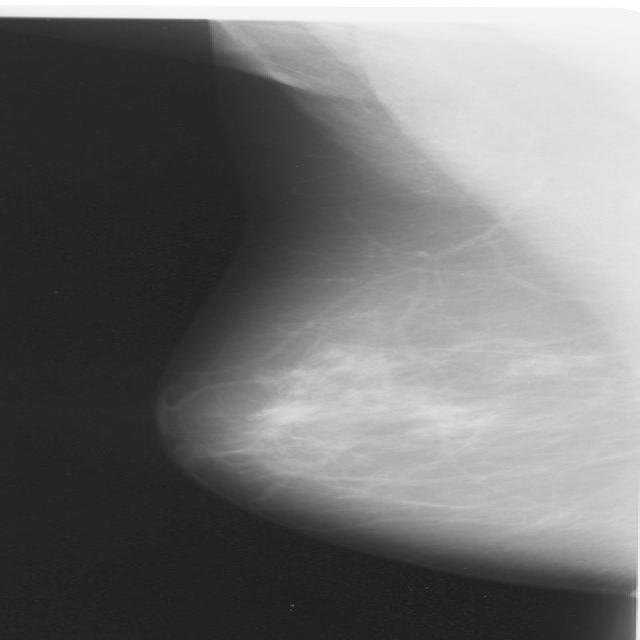tumour: (244, 400, 330, 428)
